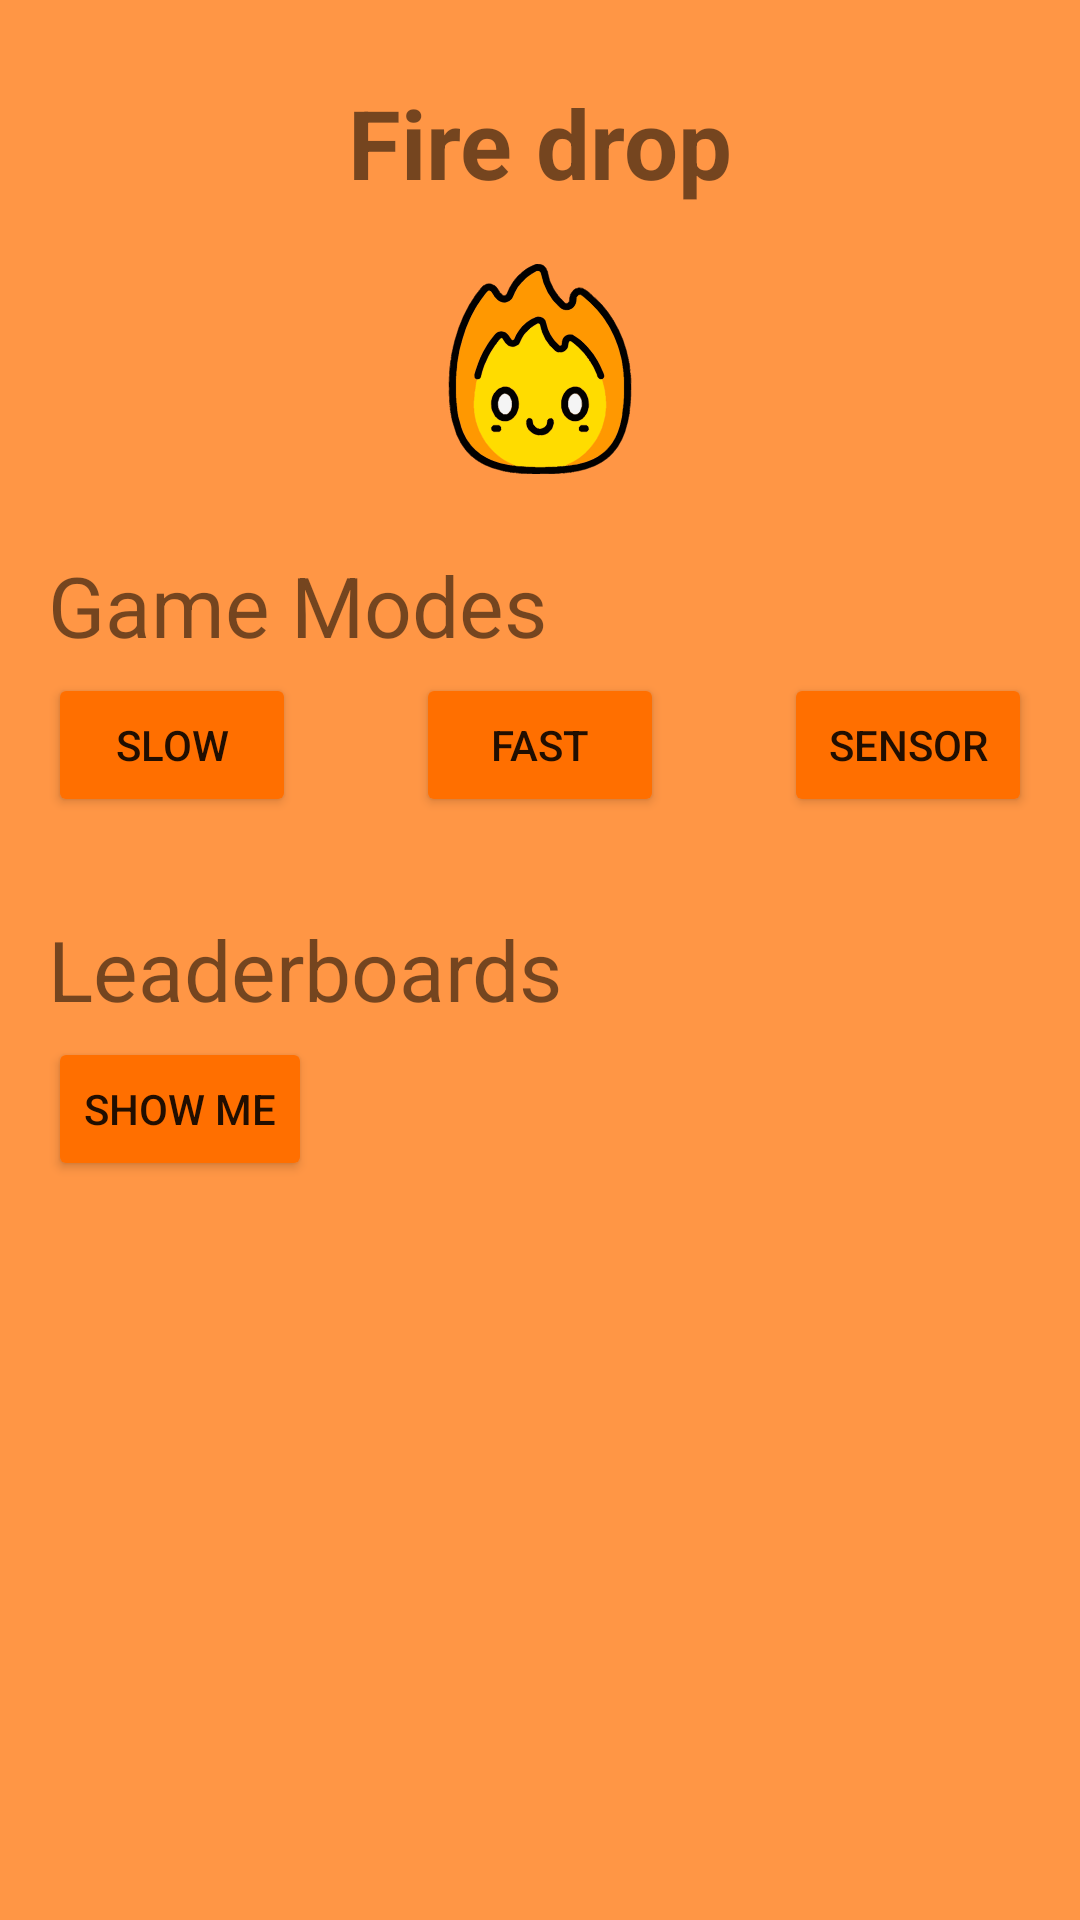

Icons on this 1080*1920 Android screen, each with its box as box=[x1, y1, x2, y2]:
flame: box=[448, 264, 632, 474]
